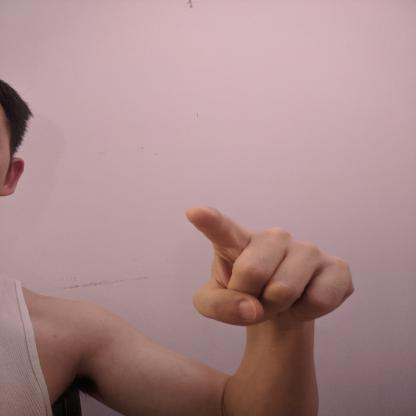Z: (181, 204, 358, 331)
